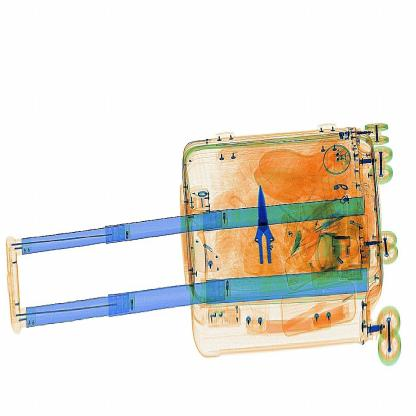gun: (239, 167, 294, 283)
